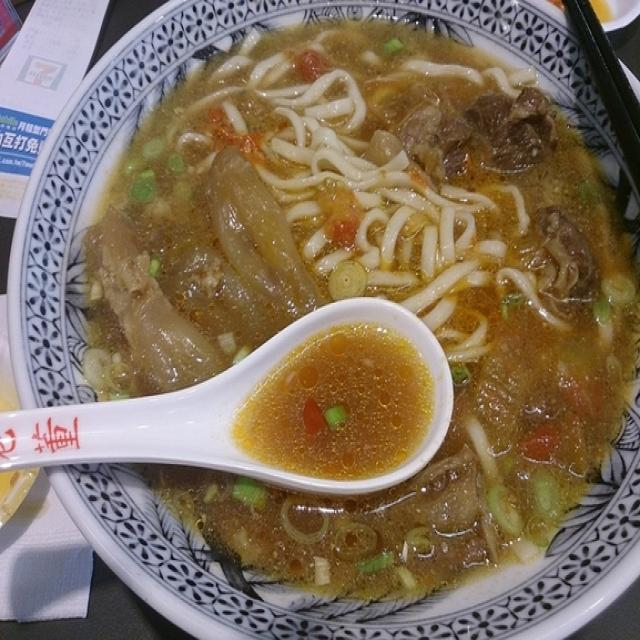面条主食: (41, 27, 621, 597)
